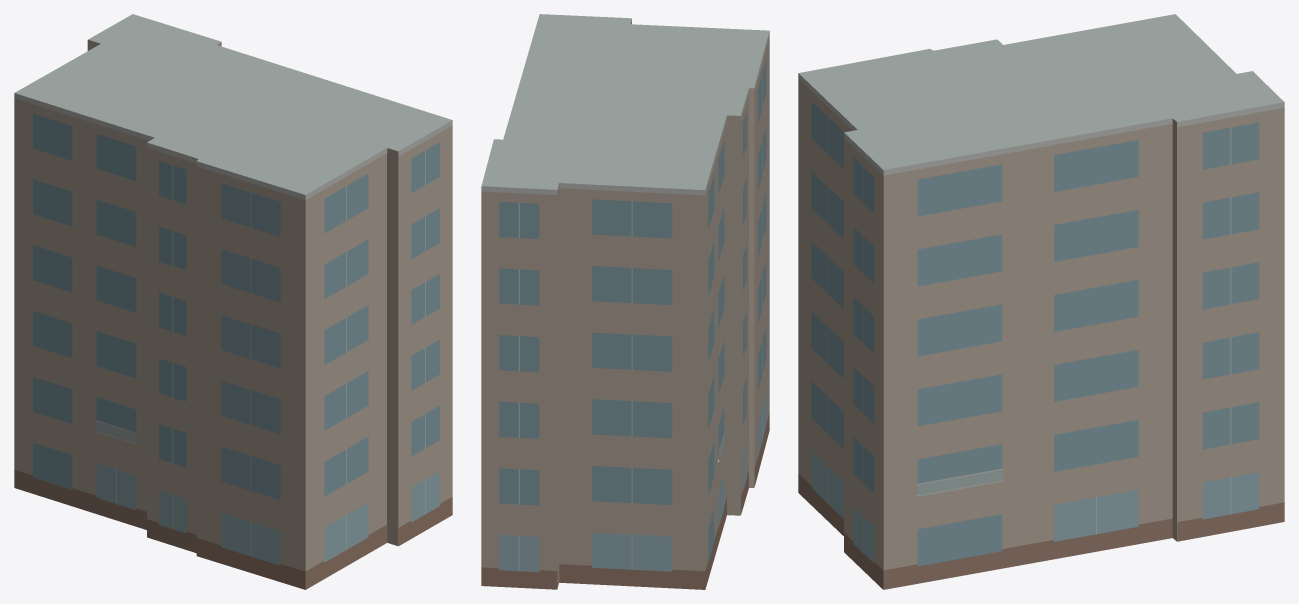
File: survey-upis-32961347.glb
3 renders of one model, left to right at view 1: azimuth 30°, elevation 25°; view 2: azimuth 150°, elevation 25°; view 3: azimuth 270°, elevation 25°, orthographic. The views are drawn at different scales.
Visible parts, largest first — view 1: survey-upis-32961347.tmp; view 2: survey-upis-32961347.tmp; view 3: survey-upis-32961347.tmp.
Part boxes in pixels (bbox=[...]): survey-upis-32961347.tmp: bbox=[14, 14, 452, 589]; survey-upis-32961347.tmp: bbox=[481, 14, 769, 589]; survey-upis-32961347.tmp: bbox=[798, 14, 1284, 589].
Bounding box in the file's own units: 14.85 × 18.6 × 19.53.
